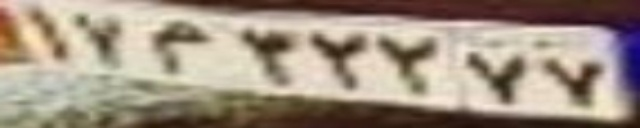1: (33, 9, 66, 63)
2: (375, 35, 441, 93), (309, 27, 368, 91)
3: (235, 28, 299, 86)
7: (463, 52, 532, 107), (542, 55, 608, 109), (75, 11, 124, 70)
mim: (148, 20, 210, 74)
